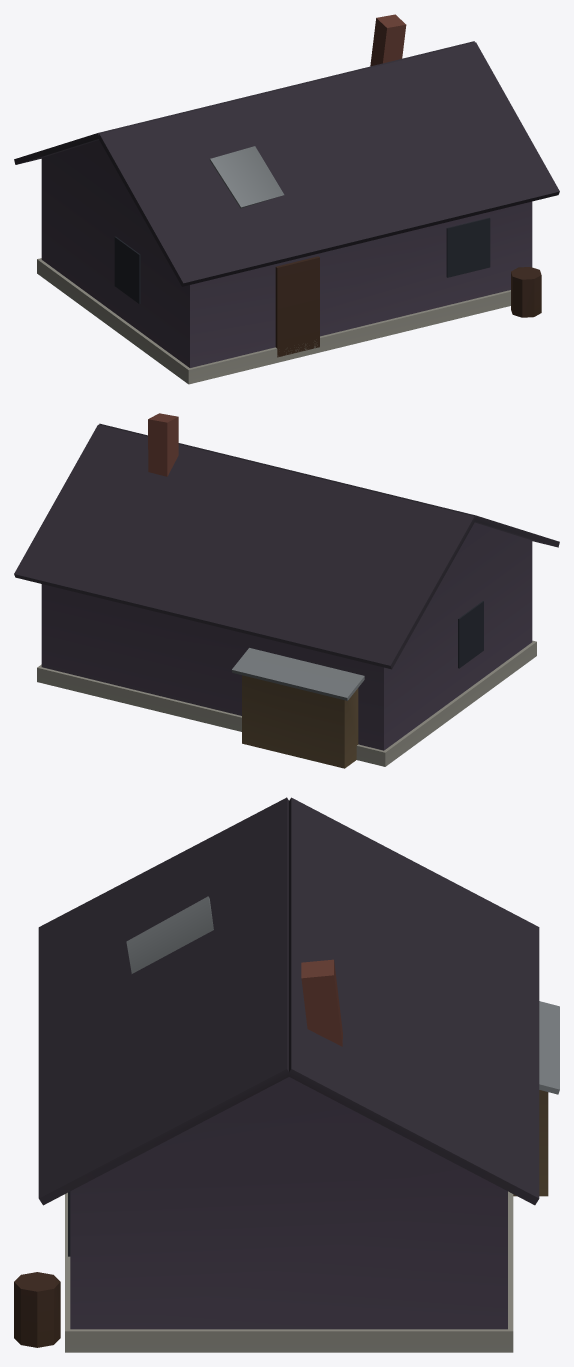
File: shell_derelict_lod1.glb
The picture shows the model from 3 angles, top to bottom: view 1: azimuth 30°, elevation 25°; view 2: azimuth 150°, elevation 25°; view 3: azimuth 270°, elevation 25°; orthographic projection. The views are drawn at different scales.
Parts seen in each view (by area): view 1: shell_derelict_lod1; view 2: shell_derelict_lod1; view 3: shell_derelict_lod1.
Part boxes in pixels (bbox=[...]): shell_derelict_lod1: bbox=[14, 14, 559, 384]; shell_derelict_lod1: bbox=[14, 413, 559, 768]; shell_derelict_lod1: bbox=[14, 797, 559, 1352].
Size of the model in its own units: 8.8 by 5.18 by 7.48.
